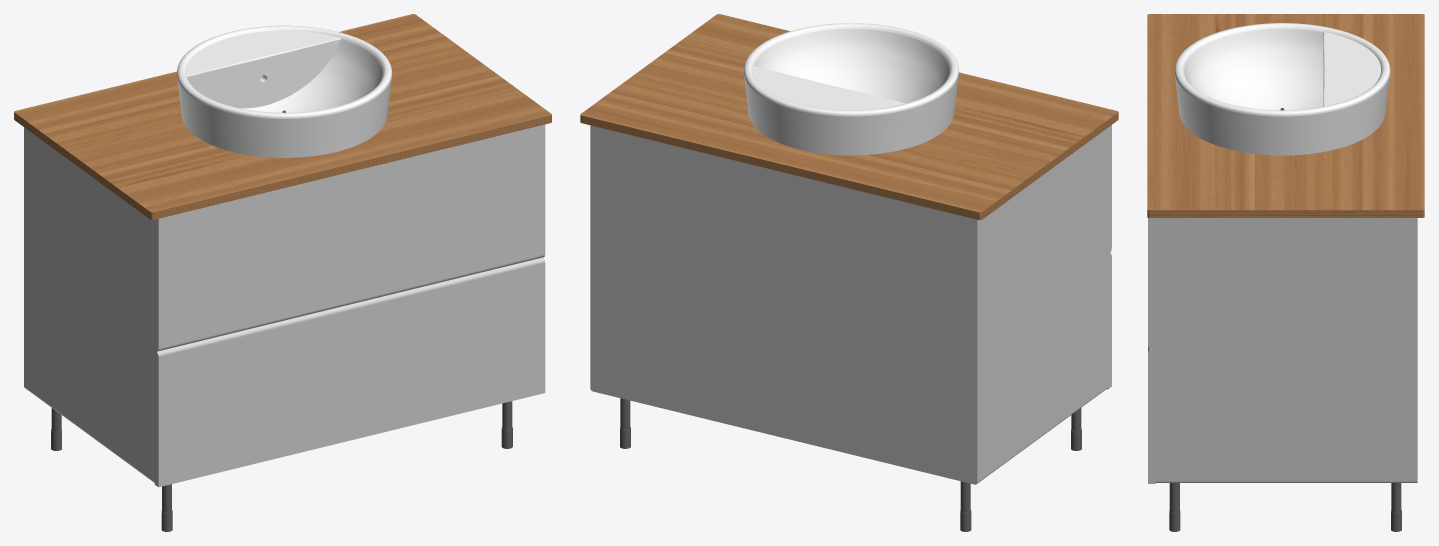
File: GODMORGON_ALDERN_TORNVIKEN_2_Drawer_Cabinet.obj
3 views of the same model, side by side, from view 1: azimuth 30°, elevation 25°; view 2: azimuth 150°, elevation 25°; view 3: azimuth 270°, elevation 25° (orthographic).
Parts seen in each view (by area): view 1: Generic_Models, Line001, Line003; view 2: Generic_Models, Line001, Line003; view 3: Generic_Models, Line001, Line003, Cylinder002, Cylinder001.
Boxes of the visible parts, box(x1,y1,x2,y2) form: Generic_Models: box(14, 14, 551, 487); Line001: box(177, 25, 392, 157); Line003: box(186, 30, 340, 108); Generic_Models: box(580, 14, 1118, 484); Line001: box(743, 23, 958, 155); Line003: box(753, 66, 905, 110); Generic_Models: box(1147, 14, 1424, 483); Line001: box(1174, 23, 1390, 155); Line003: box(1323, 32, 1390, 106); Cylinder002: box(1169, 483, 1180, 531); Cylinder001: box(1391, 483, 1401, 531).
Bounding box in the file's own units: 820 × 739 × 490.
